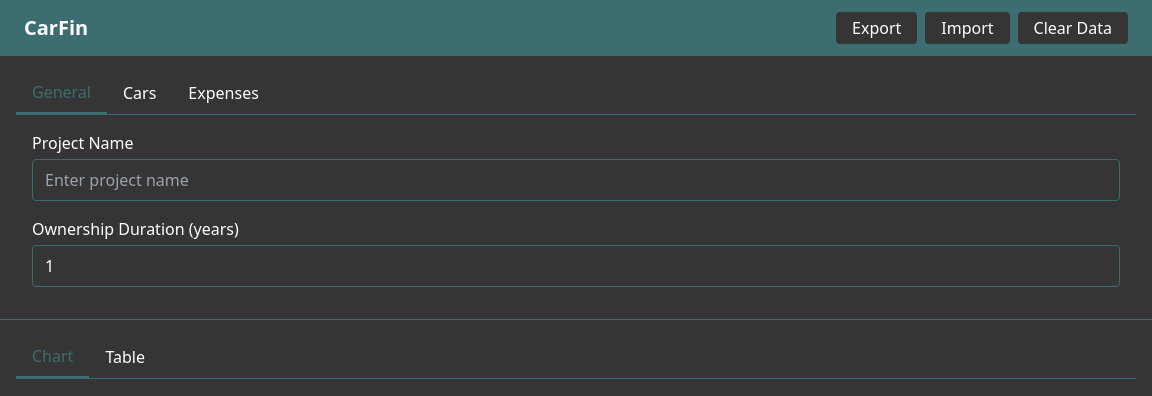
Test case: switches configuration tab on click
This screenshot has width=1152, height=396.
Click the button "Cars". click: (140, 93)
box: [107,72,172,114]
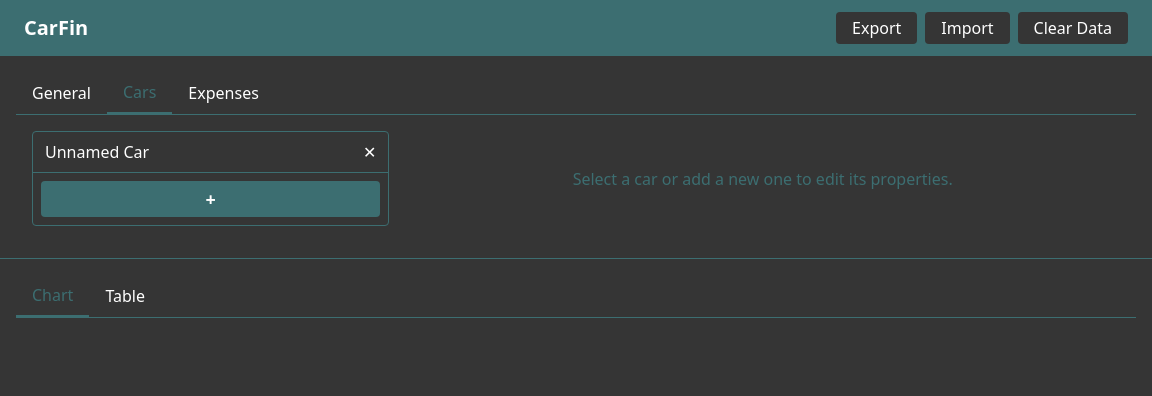
Check: the button named "Add car" is shown, box [41,181,380,217]
